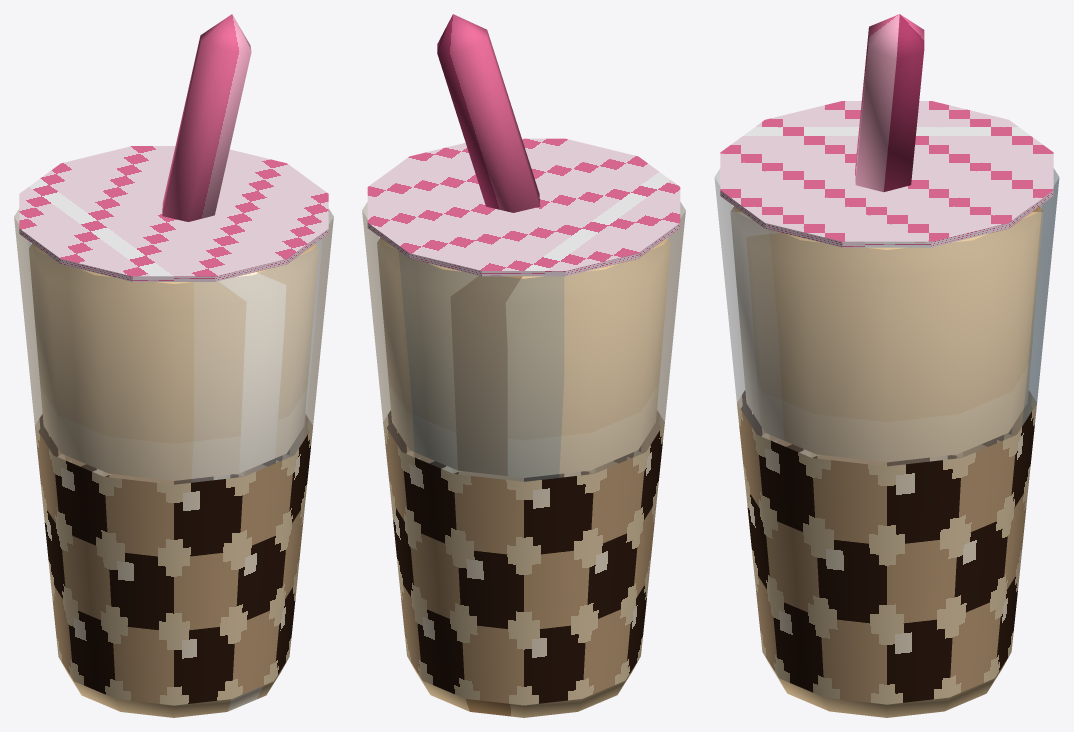
File: drinks-bubbleTea.glb
3 views of the same model, side by side, from view 1: azimuth 30°, elevation 25°; view 2: azimuth 150°, elevation 25°; view 3: azimuth 270°, elevation 25° (orthographic). The views are drawn at different scales.
Visible parts, largest first — view 1: drinks.bubbleTea; view 2: drinks.bubbleTea; view 3: drinks.bubbleTea.
Boxes of the visible parts, x1=… form: drinks.bubbleTea: x1=14, y1=14, x2=333, y2=717; drinks.bubbleTea: x1=362, y1=14, x2=685, y2=717; drinks.bubbleTea: x1=714, y1=14, x2=1059, y2=717.
Size of the model in its own units: 0.8687 by 1.91 by 0.8687.
5 materials, 5 textured.
